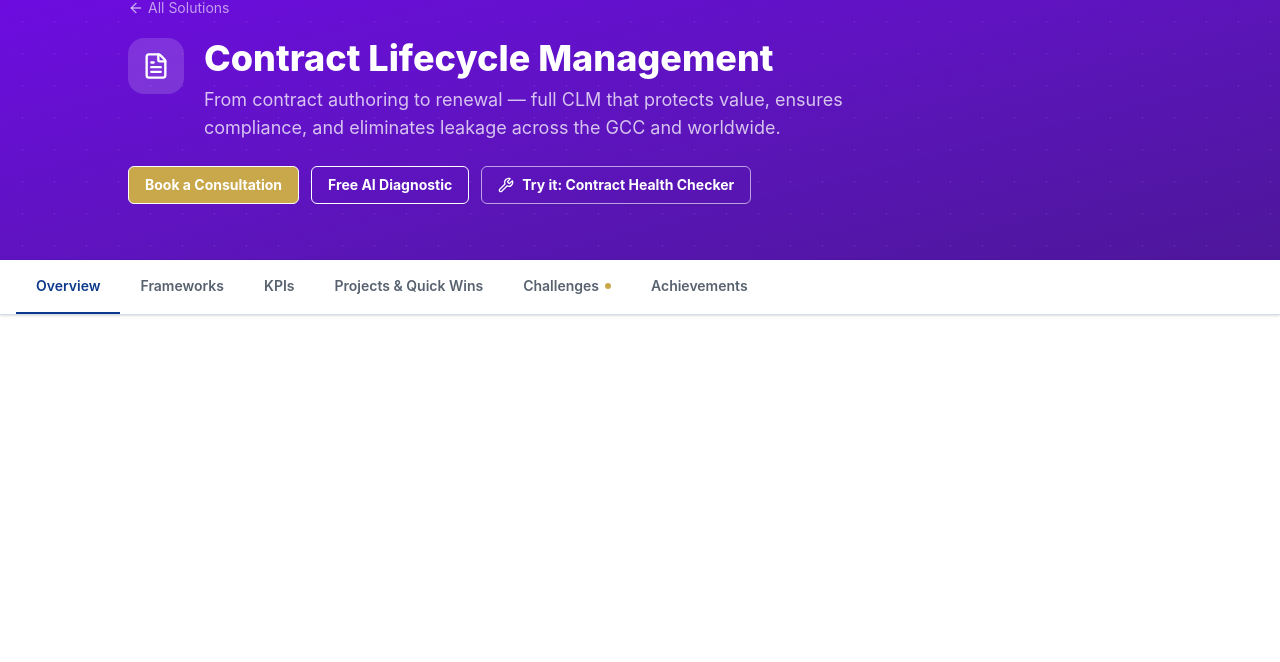
Test: SolutionDetail tool discoverability › clicking the CTA jumps to the Challenges tab and renders the real Contract Health Checker tool
Expected: the text "Export PDF" is not shown
Step 1. Click the button with test id "button-jump-to-tool" → (616, 185), box left=481, top=166, right=751, bottom=204
(page scrolled)
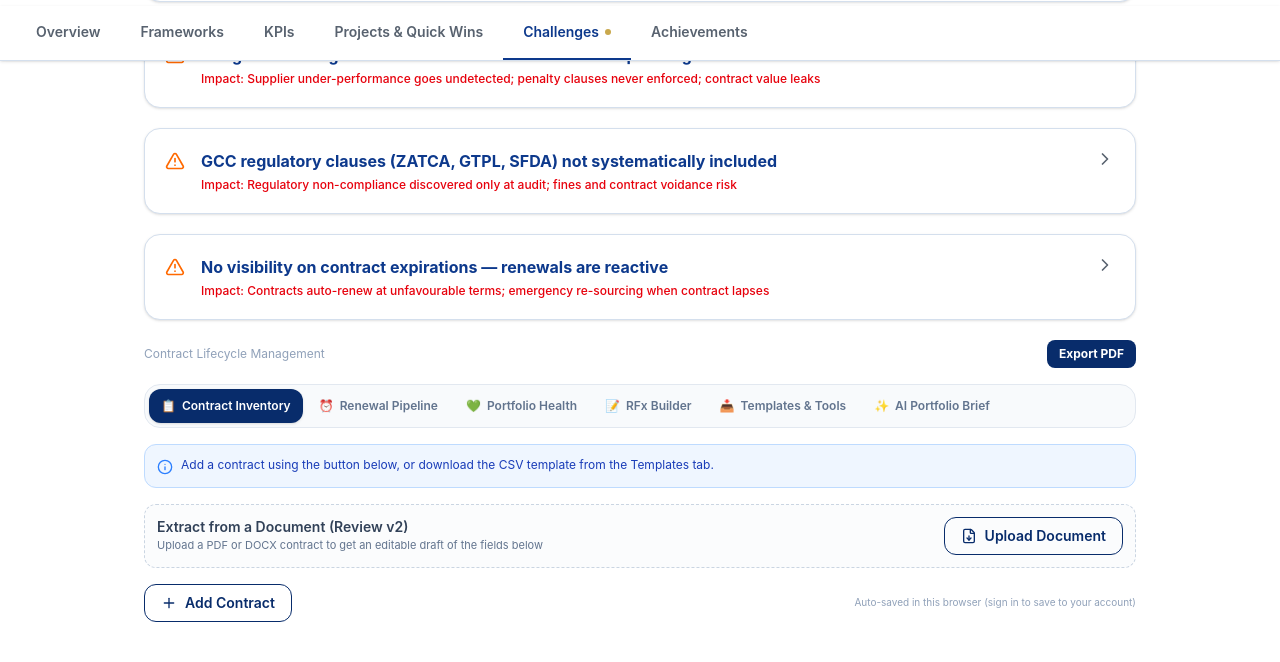
Expected: the button "Export PDF" is shown, left=1047, top=340, right=1136, bottom=368
